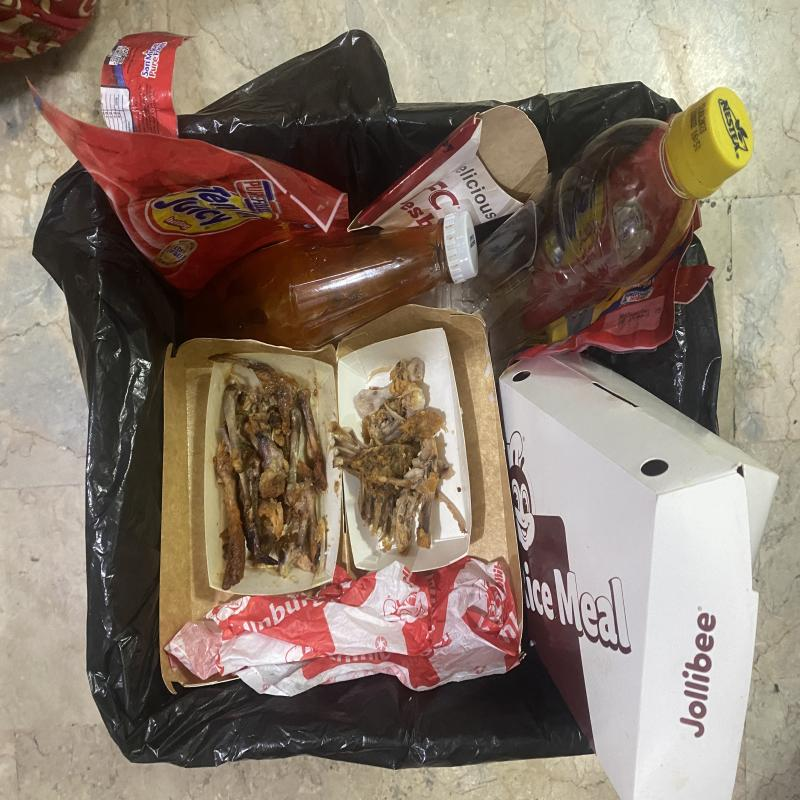cardboard: (500, 349, 778, 800), (349, 103, 551, 227)
food wrapper: (30, 32, 347, 292)
glass bottle: (192, 210, 478, 354)
left-over food: (211, 353, 329, 593), (333, 360, 464, 557)
paper: (164, 557, 518, 696)
plastic bottle: (407, 91, 753, 366)
